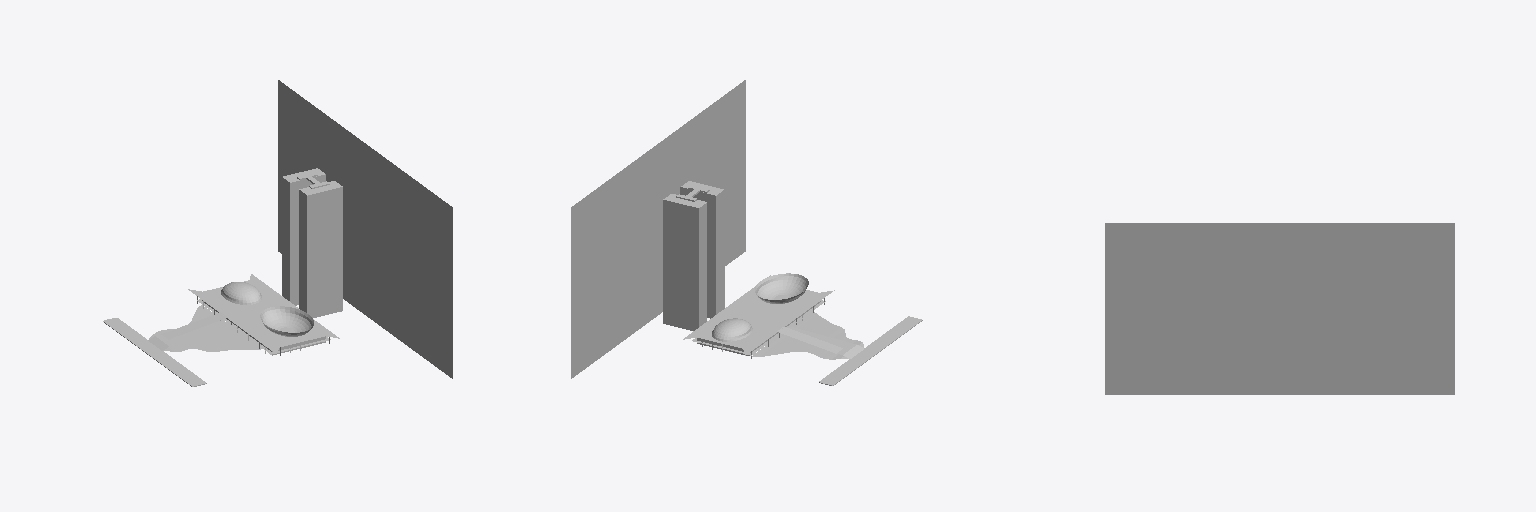
File: Congresso Nacional 1-3.obj
The picture shows the model from 3 angles: view 1: azimuth 30°, elevation 25°; view 2: azimuth 150°, elevation 25°; view 3: azimuth 270°, elevation 25°; orthographic projection.
Parts seen in each view (by area): view 1: Plane002, Box004, Plane001, Box003, Plane007, Plane006, Sphere001, Sphere002; view 2: Plane002, Box003, Plane001, Box004, Plane007, Plane006, Sphere001, Sphere002; view 3: Plane002.
Boxes of the visible parts, x1,y1,x2,y2 form: Plane002: [278, 80, 452, 378]; Box004: [299, 181, 342, 317]; Plane001: [188, 274, 339, 353]; Box003: [282, 168, 325, 305]; Plane007: [149, 305, 261, 351]; Plane006: [103, 318, 206, 386]; Sphere001: [260, 306, 313, 336]; Sphere002: [221, 282, 261, 304]; Plane002: [571, 80, 745, 378]; Box003: [663, 194, 706, 330]; Plane001: [683, 275, 834, 355]; Box004: [680, 181, 724, 318]; Plane007: [752, 311, 863, 359]; Plane006: [819, 316, 922, 385]; Sphere001: [755, 273, 808, 303]; Sphere002: [712, 318, 752, 341]; Plane002: [1105, 223, 1454, 394].
Size of the model in its own units: 639 by 480 by 884.